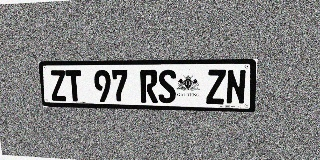7: (111, 70, 129, 102)
9: (94, 70, 112, 102)
N: (226, 69, 246, 105)
R: (140, 70, 158, 103)
S: (158, 70, 176, 103)
T: (65, 70, 83, 101)
Z: (206, 69, 226, 104), (49, 70, 67, 101)
